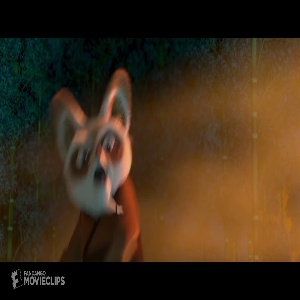shifu: (45, 65, 148, 261)
